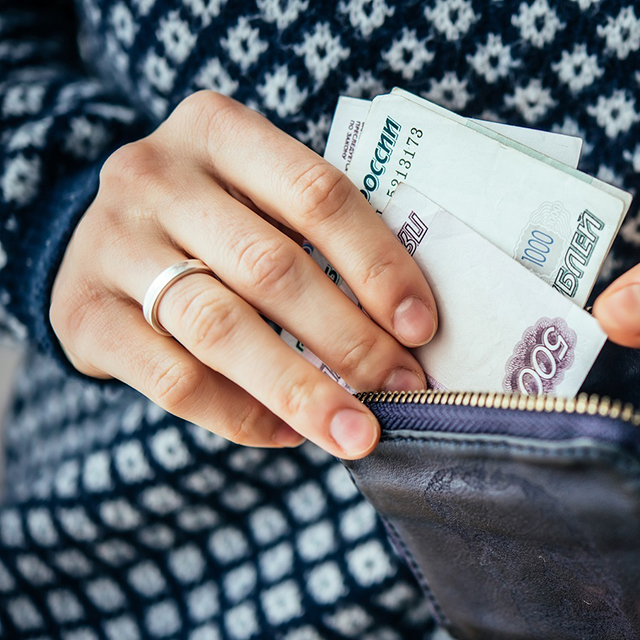banknotes: (276, 95, 621, 398)
